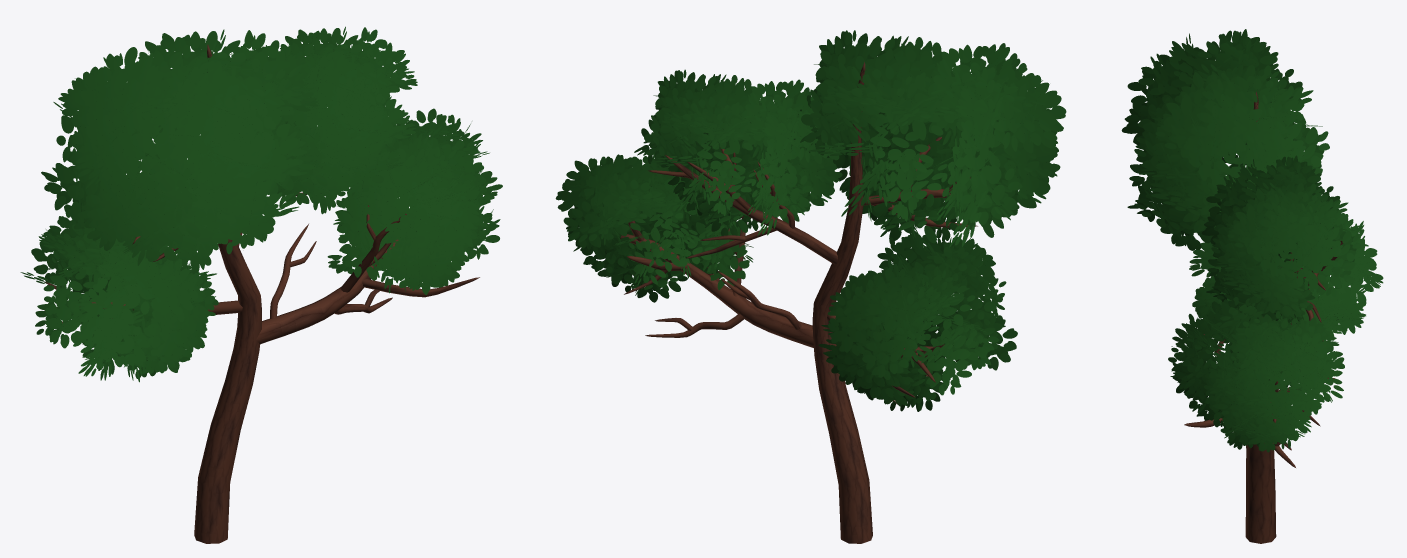
Rendered from normal_tree_3.glb.
3 renders of one model, left to right at view 1: azimuth 30°, elevation 25°; view 2: azimuth 150°, elevation 25°; view 3: azimuth 270°, elevation 25°, orthographic. The views are drawn at different scales.
Parts seen in each view (by area): view 1: NormalTree_32; view 2: NormalTree_32; view 3: NormalTree_32.
Boxes of the visible parts, x1,y1,x2,y2 form: NormalTree_32: (20,26,502,543); NormalTree_32: (555,30,1066,543); NormalTree_32: (1121,29,1383,543).
Bounding box in the file's own units: 5.04 × 5.28 × 2.88.
Materials: 2 (2 with a texture image).
